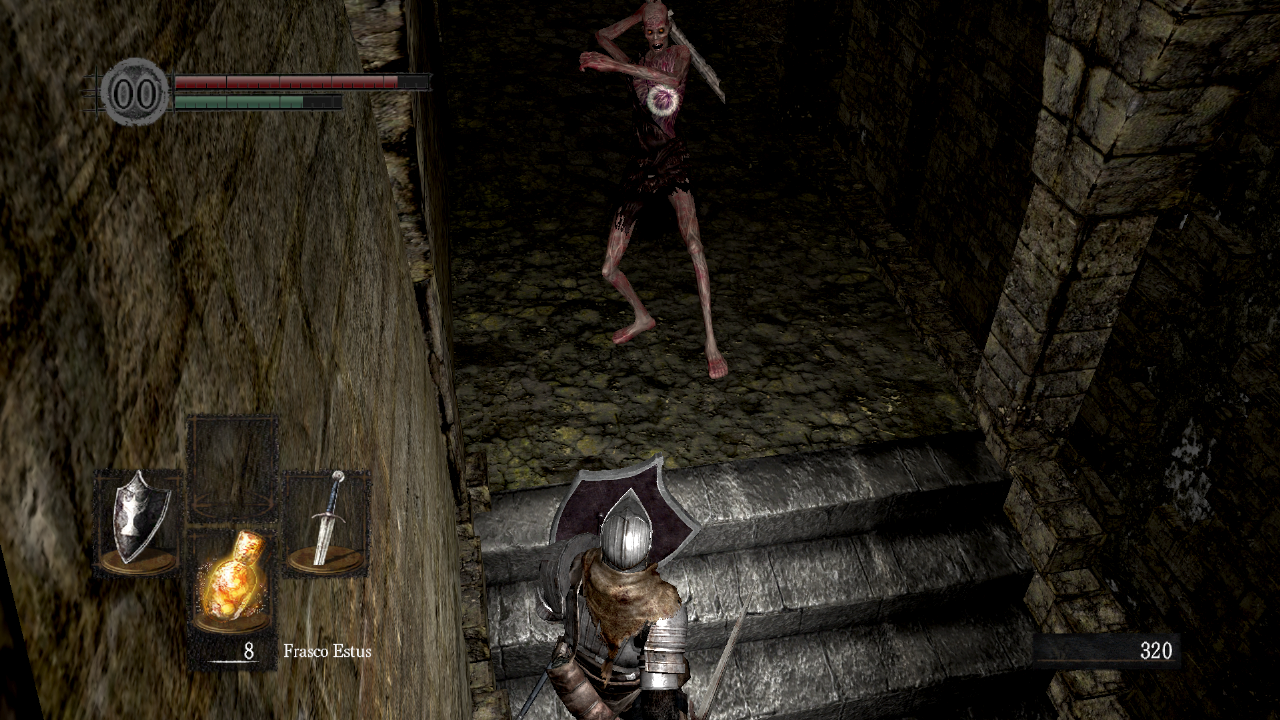hollow: (579, 1, 730, 380)
player: (514, 452, 756, 720)
